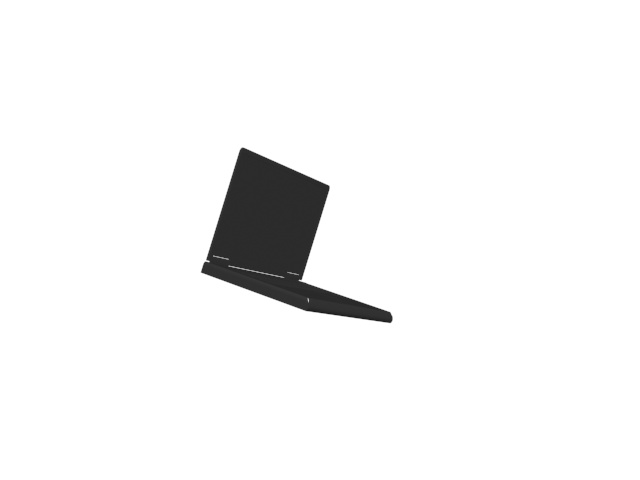laptop_computer: (201, 145, 400, 328)
